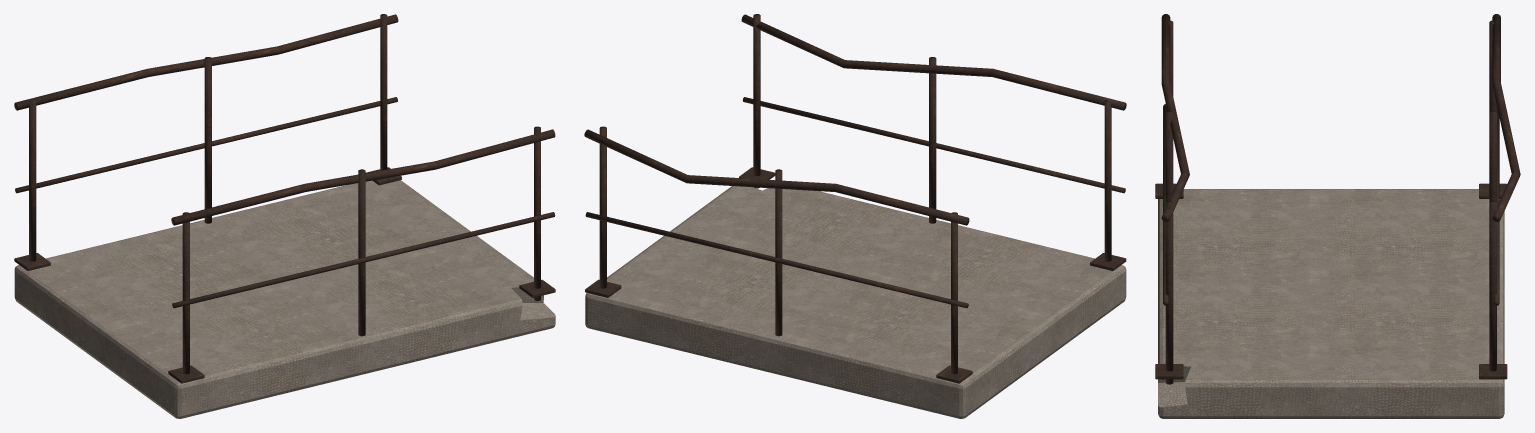
Rendered from lod0_NOT_APPROVED.glb.
3 renders of one model, left to right at view 1: azimuth 30°, elevation 25°; view 2: azimuth 150°, elevation 25°; view 3: azimuth 270°, elevation 25°, orthographic. The views are drawn at different scales.
Visible parts, largest first — view 1: f3_weathered_concrete_surface, f3_oxidized_iron_surface; view 2: f3_weathered_concrete_surface, f3_oxidized_iron_surface; view 3: f3_weathered_concrete_surface, f3_oxidized_iron_surface.
Part boxes in pixels (x1=…): f3_weathered_concrete_surface: x1=14, y1=180, x2=555, y2=418; f3_oxidized_iron_surface: x1=14, y1=14, x2=555, y2=383; f3_weathered_concrete_surface: x1=585, y1=186, x2=1126, y2=418; f3_oxidized_iron_surface: x1=584, y1=14, x2=1126, y2=383; f3_weathered_concrete_surface: x1=1158, y1=189, x2=1504, y2=418; f3_oxidized_iron_surface: x1=1155, y1=14, x2=1520, y2=384.
Bounding box in the file's own units: 2.6 × 1.32 × 2.05.
Materials: 2 (2 with a texture image).
